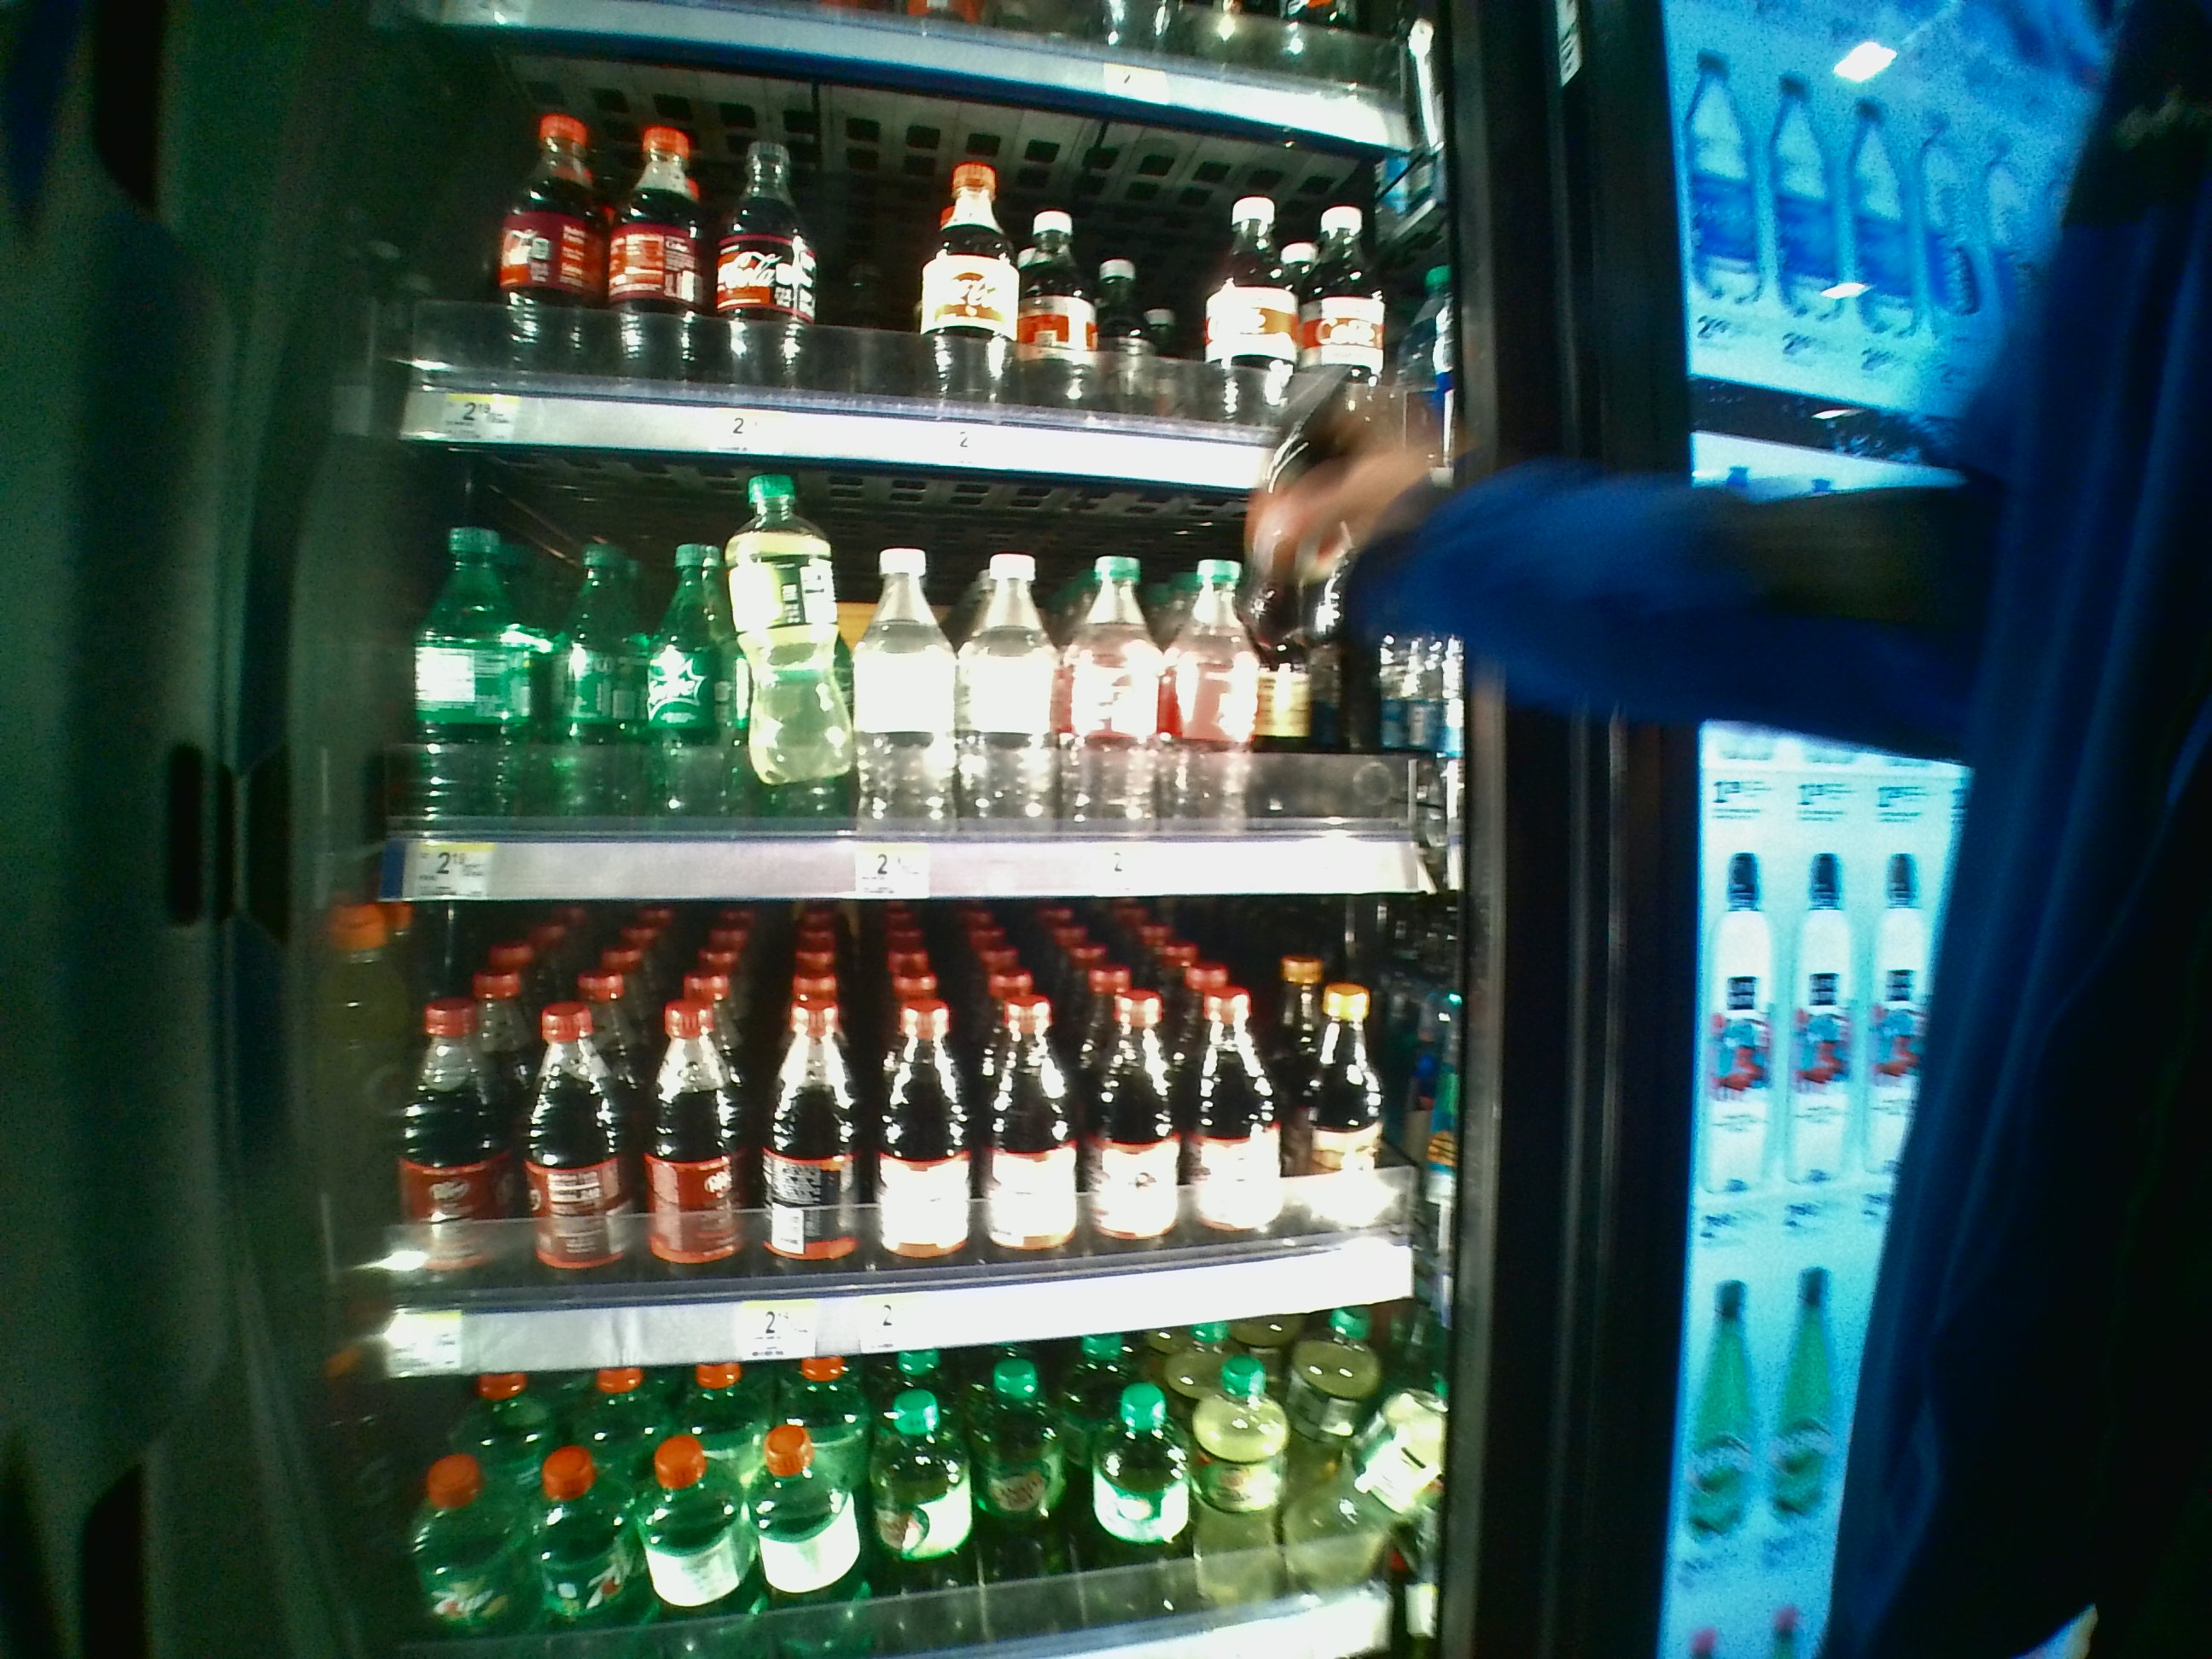shelf: (354, 897, 1453, 1384)
